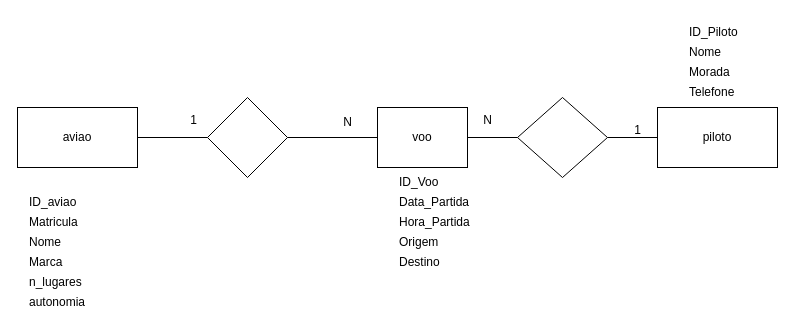
This 795x334 diagram has some shape labels left out. Here are the shapes that lost their labels. From the top down, the centre of each, then its label:
At [247,137]: "tem".
At [562,137]: "pilotado".
